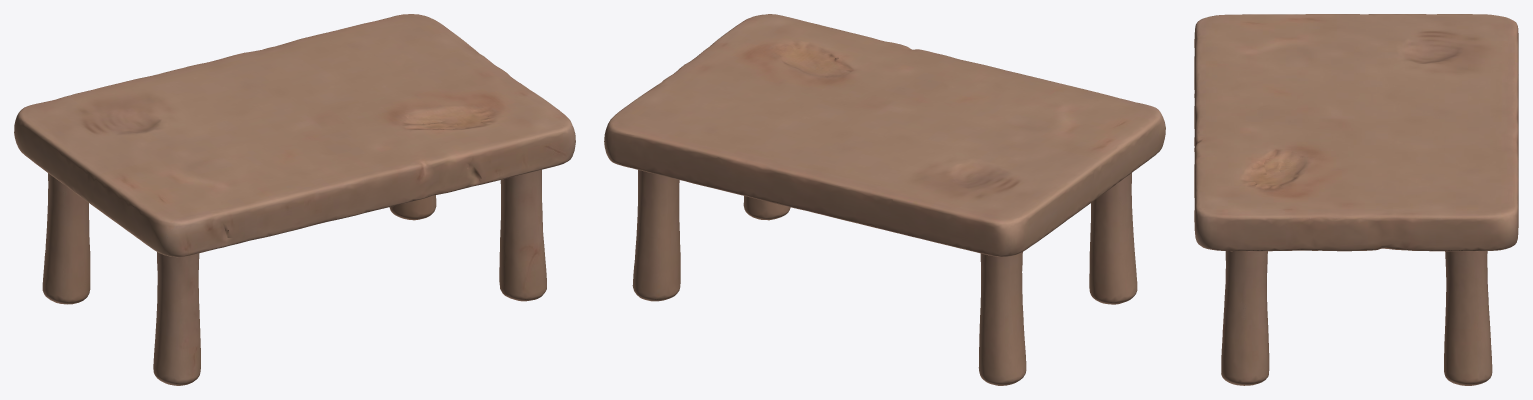
The model's file is kitchen_table.glb.
3 renders of one model, left to right at view 1: azimuth 30°, elevation 25°; view 2: azimuth 150°, elevation 25°; view 3: azimuth 270°, elevation 25°, orthographic.
Parts seen in each view (by area): view 1: Mesh; view 2: Mesh; view 3: Mesh.
Boxes of the visible parts, x1=… form: Mesh: x1=14, y1=14, x2=575, y2=385; Mesh: x1=604, y1=14, x2=1165, y2=385; Mesh: x1=1194, y1=14, x2=1518, y2=385.
Size of the model in its own units: 1.9 by 0.7896 by 1.27.
1 material, 1 textured.
